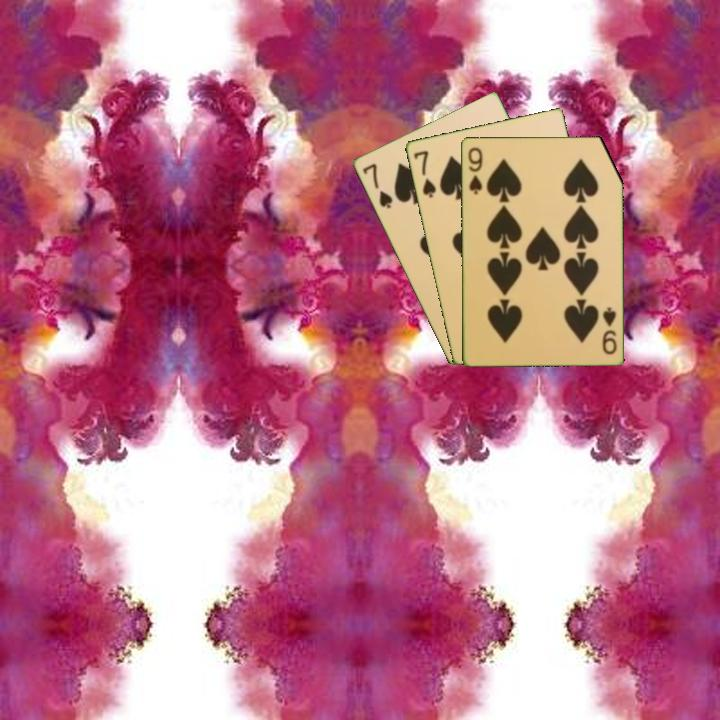7s: (359, 160, 395, 212), (410, 147, 439, 200)
9s: (464, 143, 485, 197), (599, 303, 619, 357)
